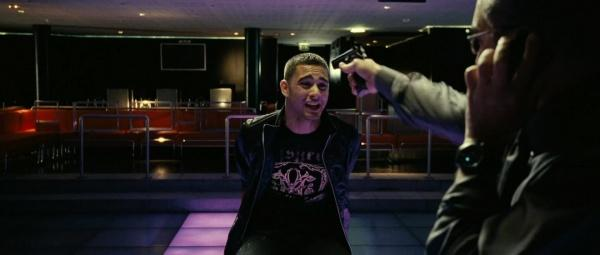Gun: (331, 46, 371, 98)
